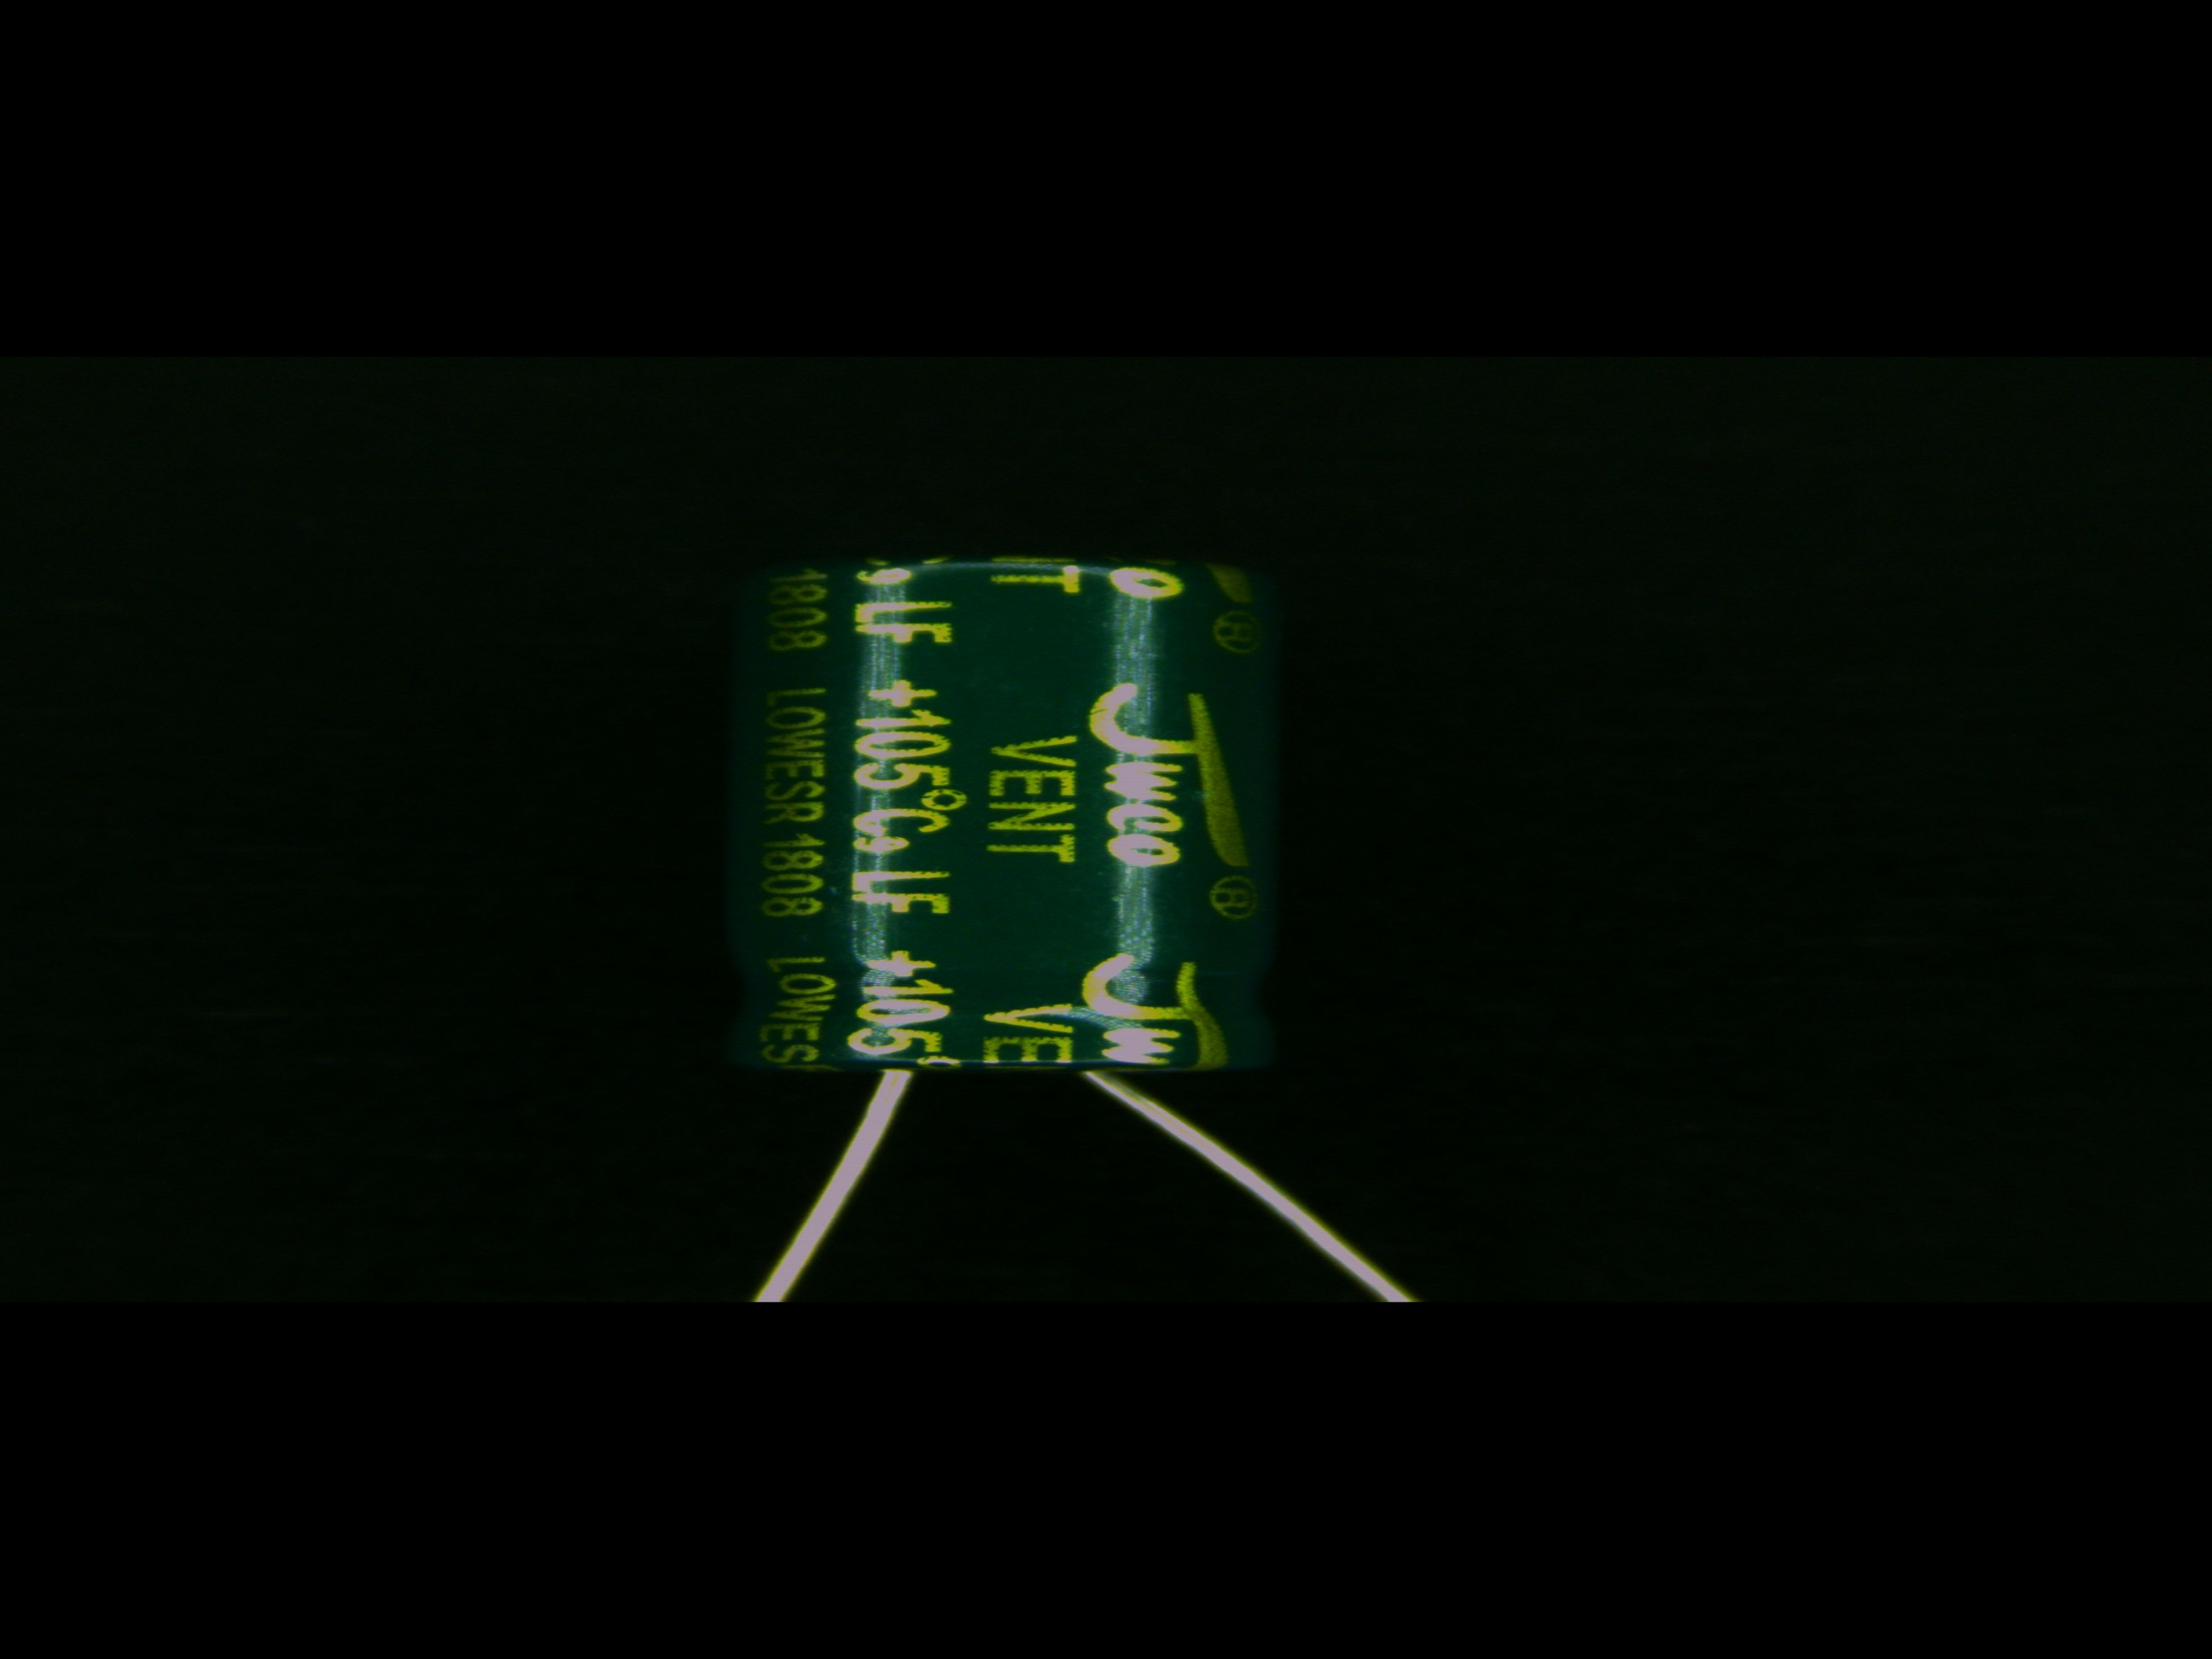c1: (723, 552, 1289, 1192)
